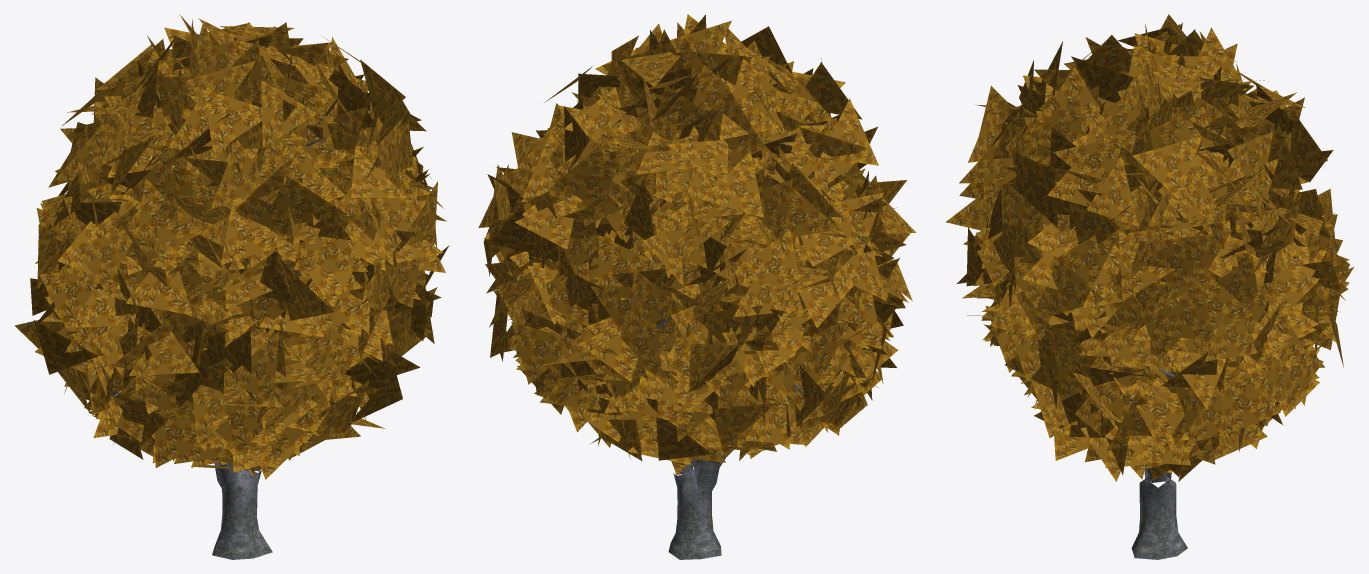
Rendered from Platanus_Occidentalis_Autumn_Adult.glb.
3 renders of one model, left to right at view 1: azimuth 30°, elevation 25°; view 2: azimuth 150°, elevation 25°; view 3: azimuth 270°, elevation 25°, orthographic. The views are drawn at different scales.
Parts seen in each view (by area): view 1: Platanus_Occidentalis_Autumn_Adult__LOD3; view 2: Platanus_Occidentalis_Autumn_Adult__LOD3; view 3: Platanus_Occidentalis_Autumn_Adult__LOD3.
Boxes of the visible parts, x1,y1,x2,y2 form: Platanus_Occidentalis_Autumn_Adult__LOD3: [15, 15, 449, 559]; Platanus_Occidentalis_Autumn_Adult__LOD3: [478, 14, 915, 559]; Platanus_Occidentalis_Autumn_Adult__LOD3: [946, 14, 1353, 559].
Bounding box in the file's own units: 22.56 × 28.61 × 20.75.
2 materials, 2 textured.
